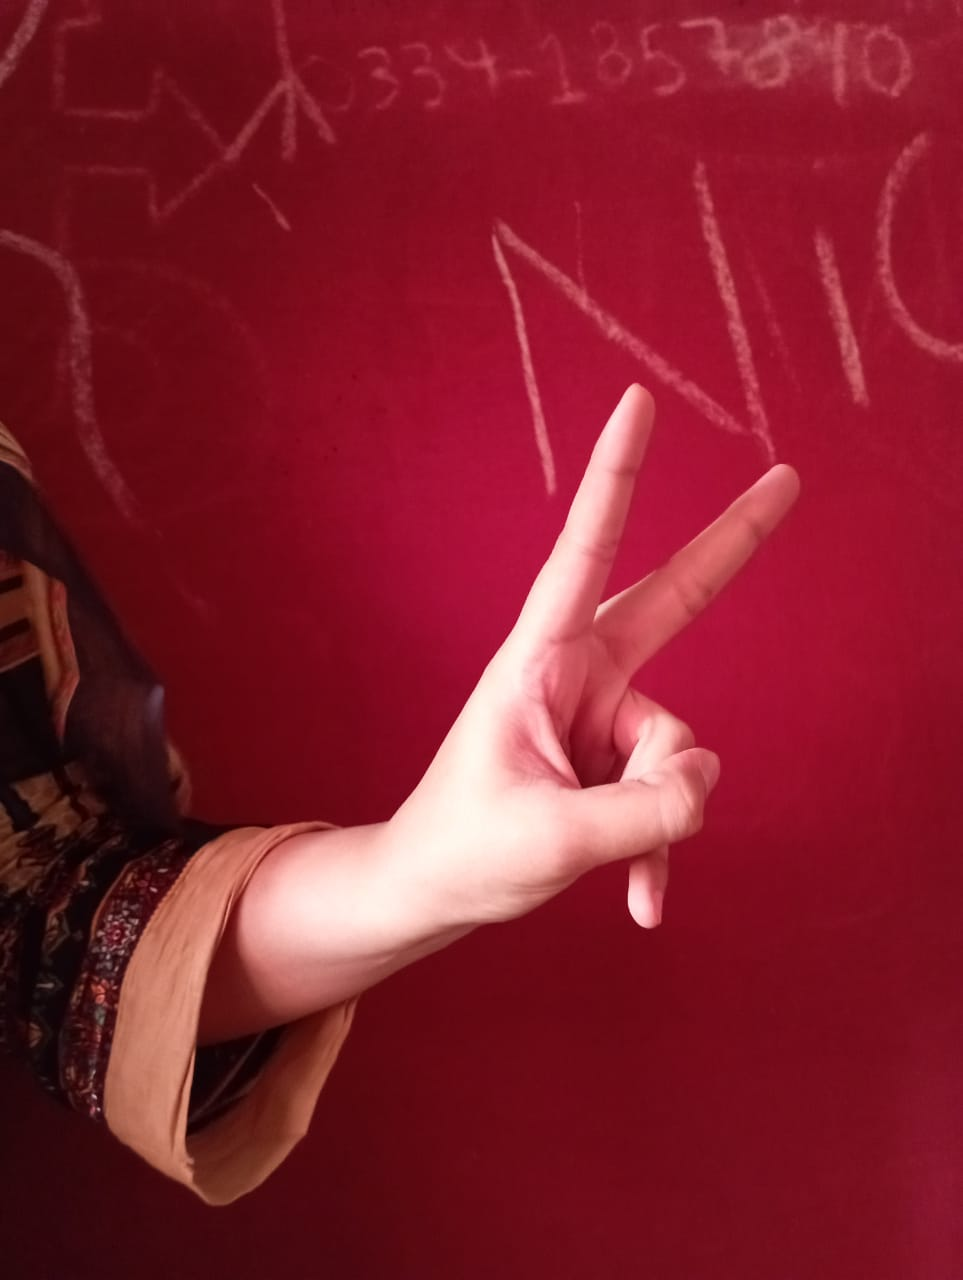Peace: (474, 366, 817, 963)
